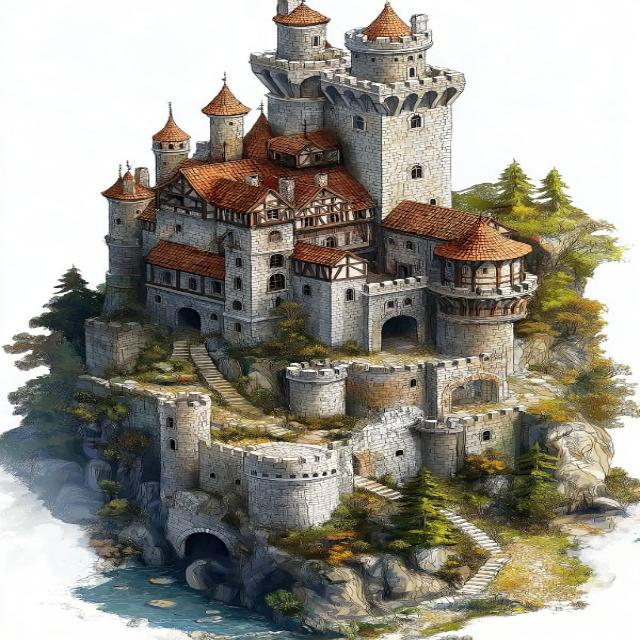castle: (66, 19, 558, 368)
